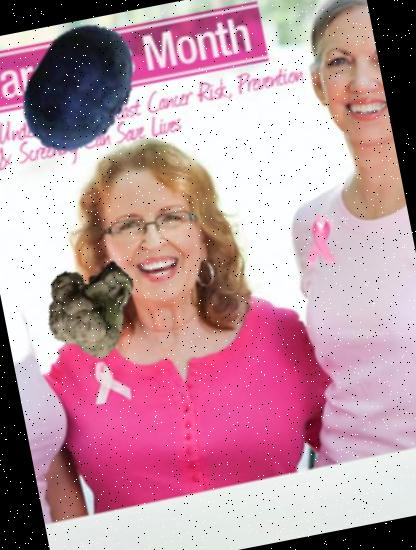Blueberry: (1, 10, 160, 168)
Cauliflower: (31, 245, 150, 365)
